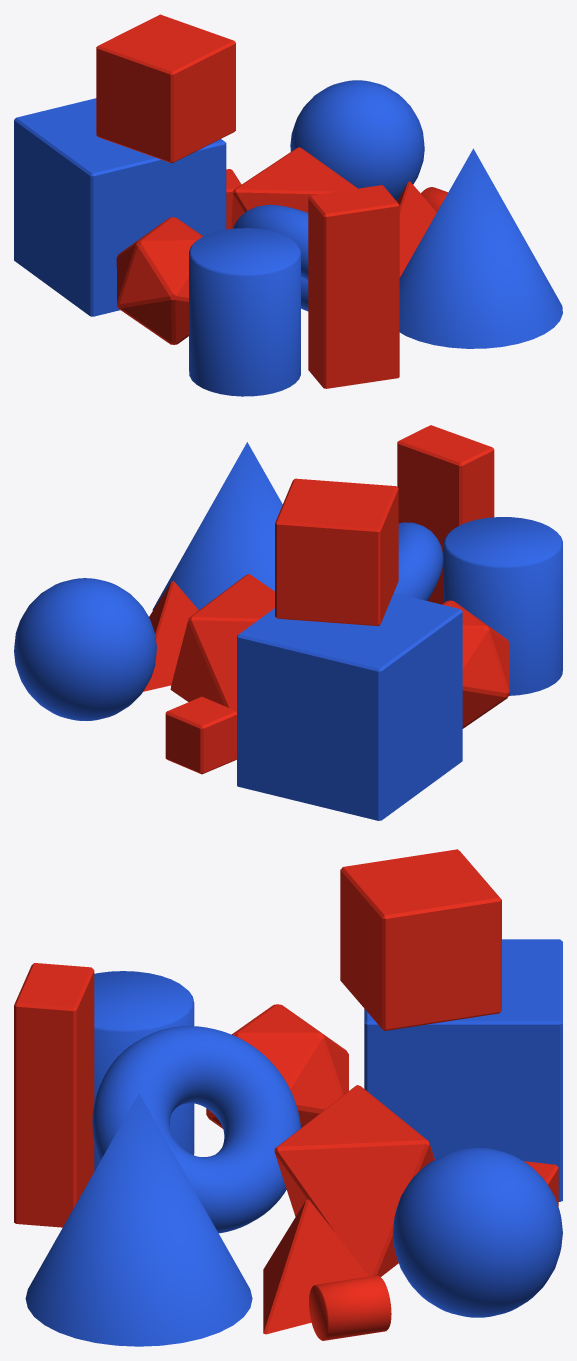
Rendered from Polygons.fbx.
3 views of the same model, one above another, from view 1: azimuth 30°, elevation 25°; view 2: azimuth 150°, elevation 25°; view 3: azimuth 270°, elevation 25° (orthographic). The views are drawn at different scales.
Parts seen in each view (by area): view 1: cubiod.001; view 2: cubiod.001; view 3: cubiod.001.
Part boxes in pixels (x1,y1,x2,y2): cubiod.001: (14, 14, 562, 396); cubiod.001: (14, 425, 562, 820); cubiod.001: (14, 849, 562, 1346).
Bounding box in the file's own units: 395 × 231 × 387.
